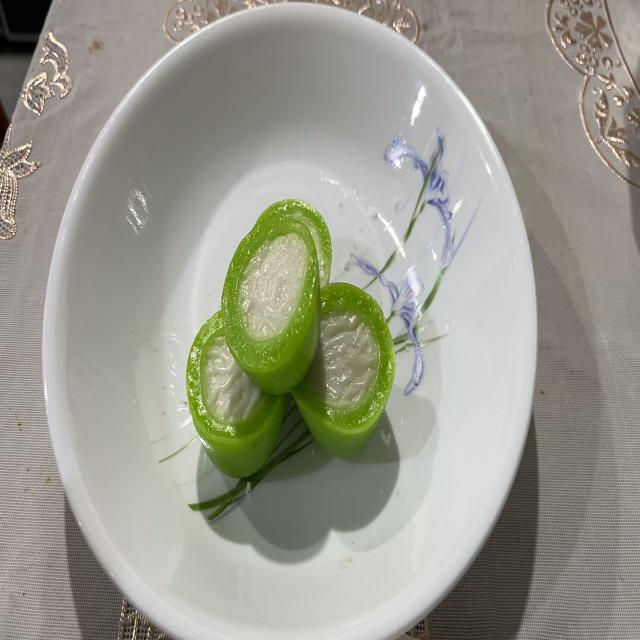nona-manis: (292, 282, 395, 458), (221, 218, 321, 396), (186, 311, 285, 478), (261, 200, 332, 289)
